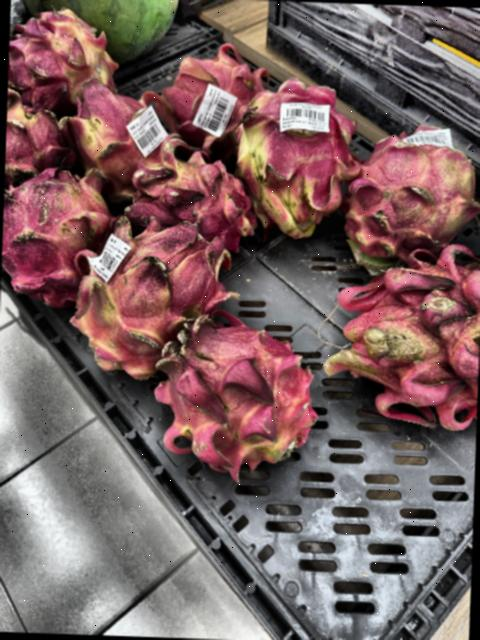buah-naga-belum-matang: (318, 246, 480, 426), (79, 210, 228, 386), (162, 321, 320, 469), (347, 118, 480, 265), (230, 77, 351, 228), (2, 170, 107, 310), (118, 144, 256, 246), (10, 0, 116, 104), (65, 85, 166, 186), (6, 95, 70, 177)
buah-naga-matang: (150, 44, 254, 149)
